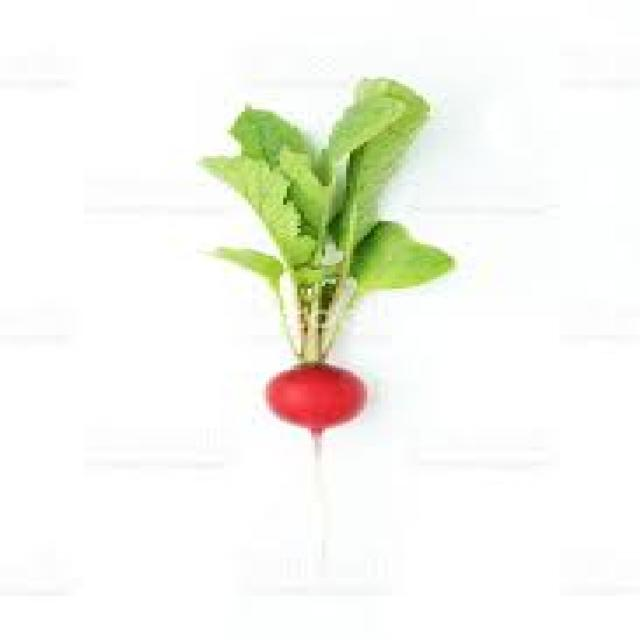organic waste: (199, 77, 448, 358), (262, 361, 364, 461)
